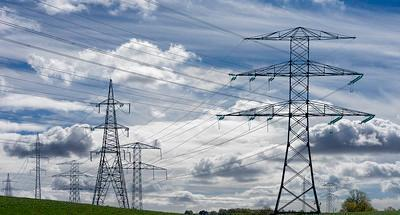power_tower: (203, 23, 379, 215), (92, 72, 133, 215), (56, 153, 91, 205), (28, 131, 51, 203)
